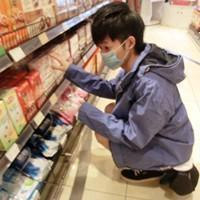yes_mask: (89, 2, 145, 72)
